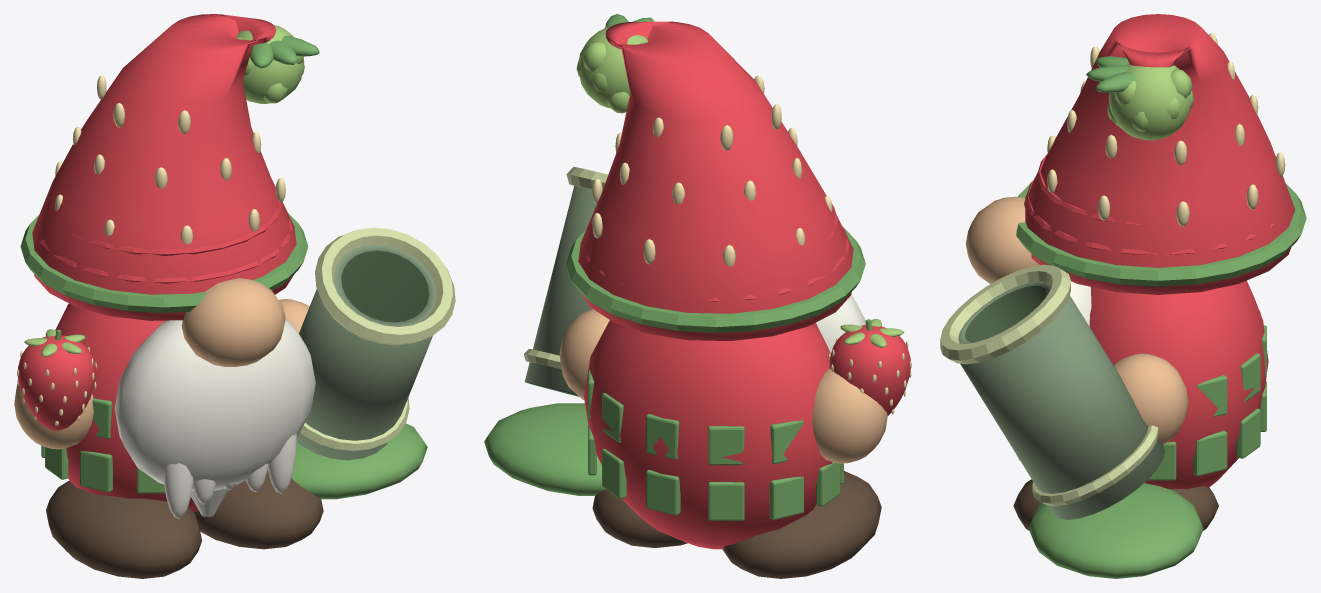
Rendered from gnome-strawberry.glb.
3 renders of one model, left to right at view 1: azimuth 30°, elevation 25°; view 2: azimuth 150°, elevation 25°; view 3: azimuth 270°, elevation 25°, orthographic. The views are drawn at different scales.
Parts seen in each view (by area): view 1: gnome-strawberry; view 2: gnome-strawberry; view 3: gnome-strawberry.
Boxes of the visible parts, box(x1,y1,x2,y2) form: gnome-strawberry: box(14, 14, 455, 578); gnome-strawberry: box(484, 14, 911, 578); gnome-strawberry: box(940, 14, 1306, 578).
Size of the model in its own units: 1.24 by 1.46 by 0.9617.
